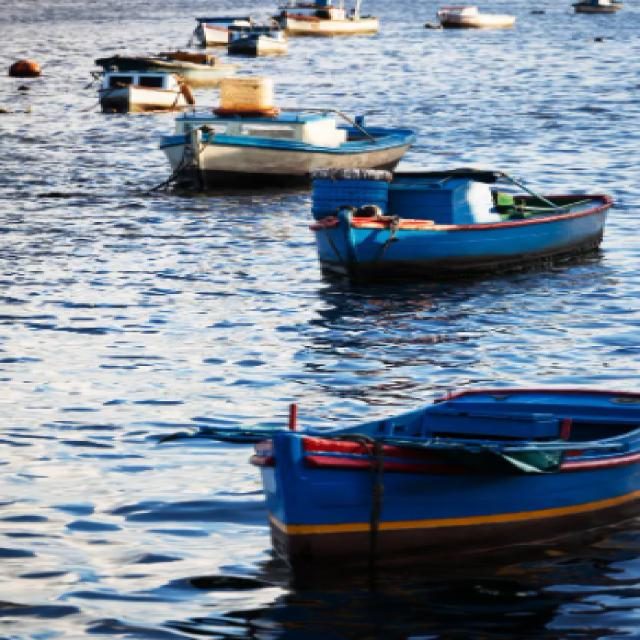fishing boat: (252, 370, 640, 546), (309, 160, 620, 273), (182, 71, 416, 179), (100, 51, 226, 83), (201, 10, 289, 52), (278, 0, 386, 34), (86, 71, 185, 108), (434, 3, 516, 31), (572, 0, 627, 11)
